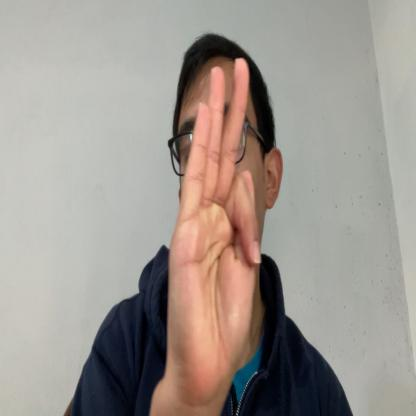F: (167, 57, 262, 405)
